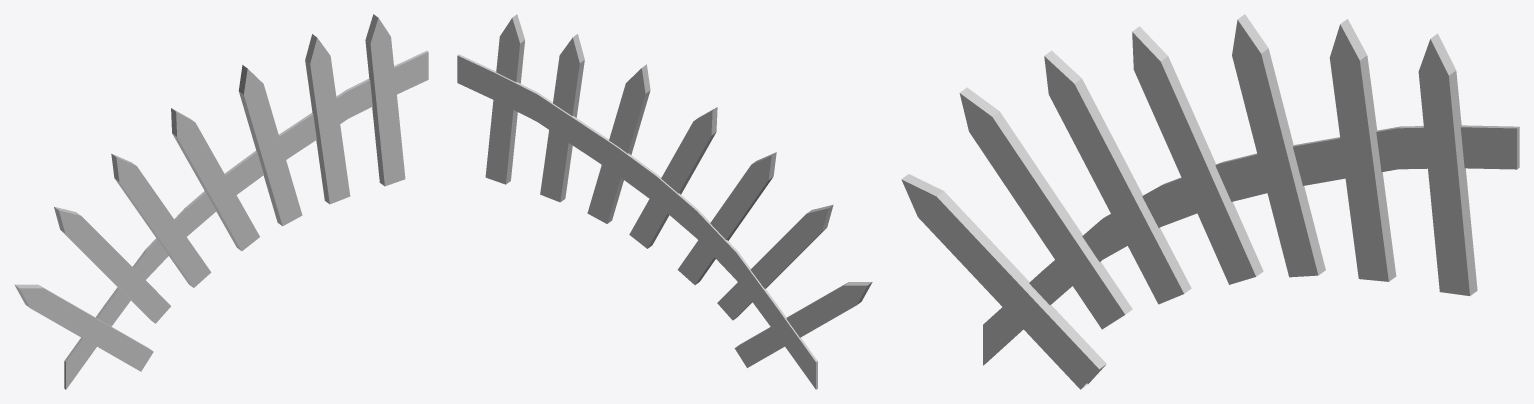
File: CercaCurvadaEsquerda.fbx
The picture shows the model from 3 angles, left to right: view 1: azimuth 30°, elevation 25°; view 2: azimuth 150°, elevation 25°; view 3: azimuth 330°, elevation 25°; orthographic projection. The views are drawn at different scales.
Parts seen in each view (by area): view 1: CercaCurvadaEsquerda; view 2: CercaCurvadaEsquerda; view 3: CercaCurvadaEsquerda.
Part boxes in pixels (x1,y1,x2,y2): CercaCurvadaEsquerda: (14,14,428,389); CercaCurvadaEsquerda: (457,14,872,389); CercaCurvadaEsquerda: (901,14,1519,389).
Bounding box in the file's own units: 462 × 320 × 11.74.
